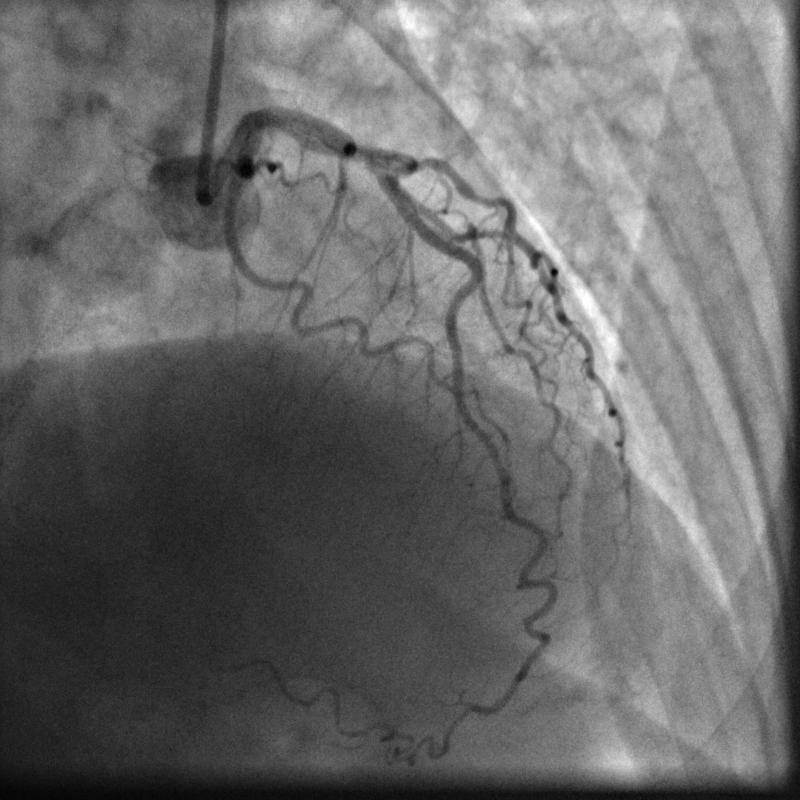Stenosis: (352, 135, 376, 164)
